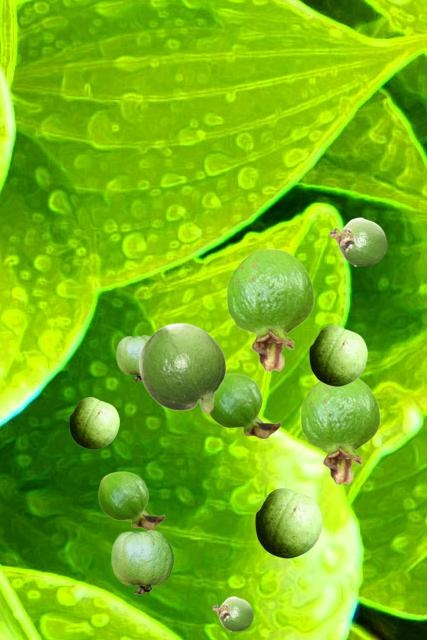guava: (226, 248, 313, 371), (300, 378, 379, 484), (138, 322, 225, 413), (209, 373, 280, 438), (255, 488, 321, 557), (111, 530, 173, 593), (98, 471, 164, 529), (309, 325, 366, 385), (329, 217, 386, 265), (69, 397, 118, 448), (116, 335, 150, 380), (212, 596, 252, 630)
